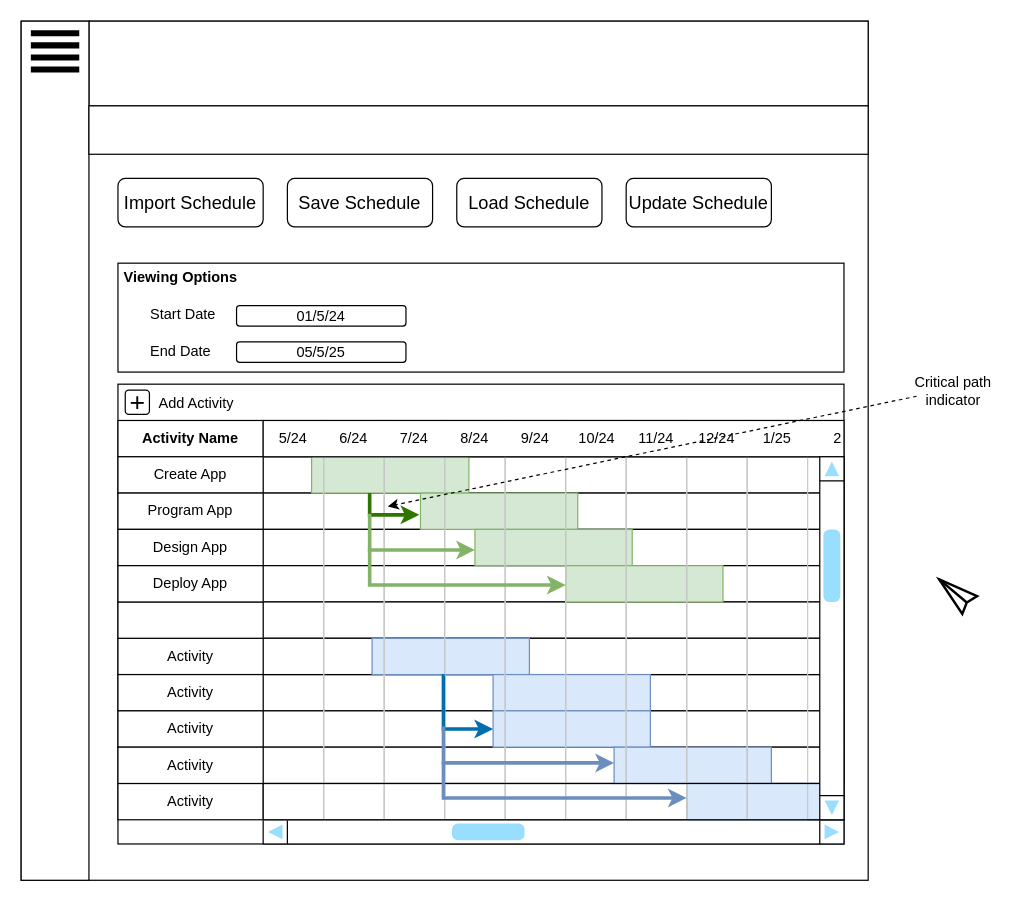
Some shapes in this 1036 by 901 pixel diagram are drawn without their labels. The shapes that lost their labels are listed below. From the top down, each one's box as (x1, y1, x2, y2) in pixels, then its label:
(88, 20, 868, 106): Schedule Optimizer
(88, 105, 868, 154): Schedule Viewer
